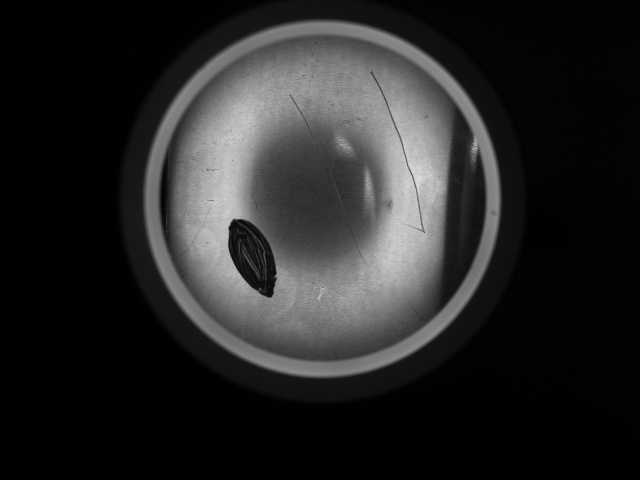ca_shang: (287, 92, 370, 270), (367, 67, 427, 236)
zang_wu: (226, 217, 280, 299)
